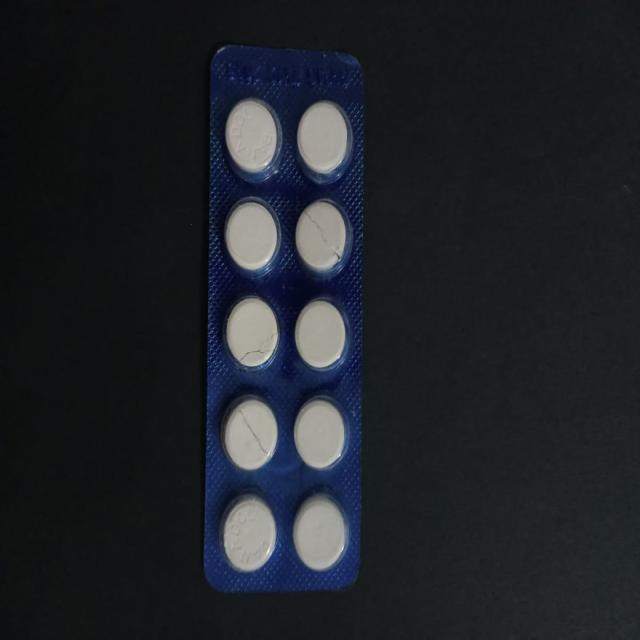defect: (222, 394, 281, 474), (294, 197, 351, 277), (225, 296, 281, 369)
